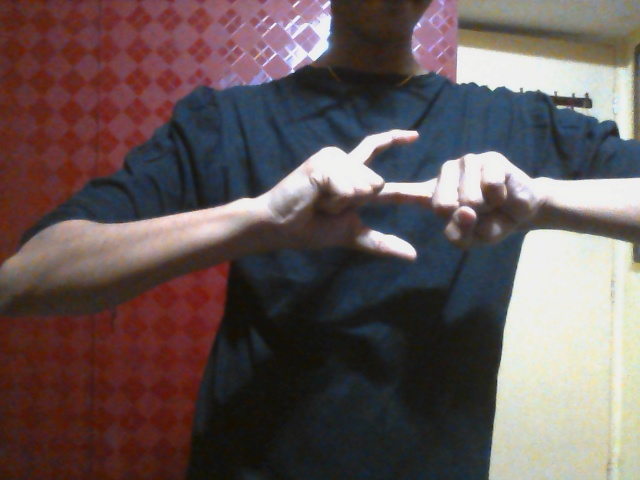E: (268, 126, 534, 286)
